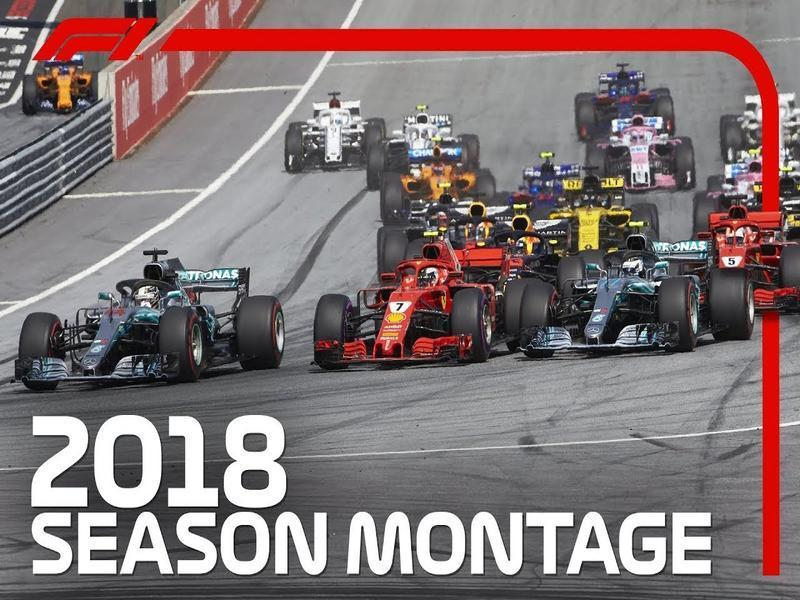f1: (16, 241, 328, 403), (305, 215, 536, 375), (525, 237, 778, 368), (280, 76, 401, 176), (577, 120, 726, 192), (365, 109, 503, 177), (580, 58, 677, 144)
